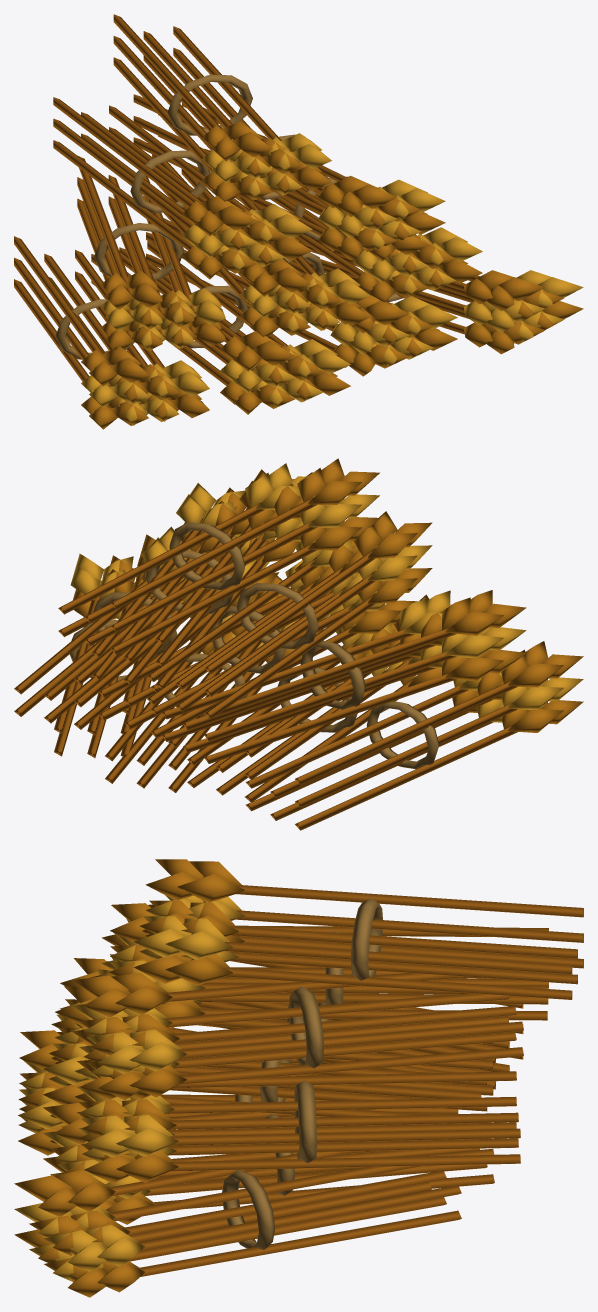
The model's file is pile-wheat-10.obj.
3 views of the same model, one above another, from view 1: azimuth 30°, elevation 25°; view 2: azimuth 150°, elevation 25°; view 3: azimuth 270°, elevation 25° (orthographic). The views are drawn at different scales.
Parts seen in each view (by area): view 1: pile-wheat-10; view 2: pile-wheat-10; view 3: pile-wheat-10.
Boxes of the visible parts, x1=… form: pile-wheat-10: x1=14, y1=14, x2=583, y2=429; pile-wheat-10: x1=14, y1=458, x2=583, y2=830; pile-wheat-10: x1=14, y1=859, x2=583, y2=1297.
Bounding box in the file's own units: 0.7706 × 0.3538 × 0.6658.
1 material, 1 textured.
